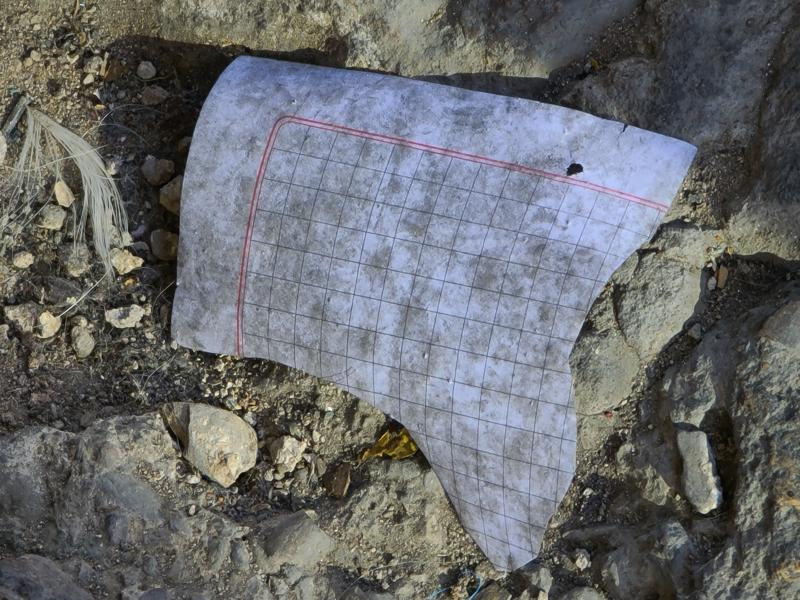papel: (165, 55, 697, 575)
